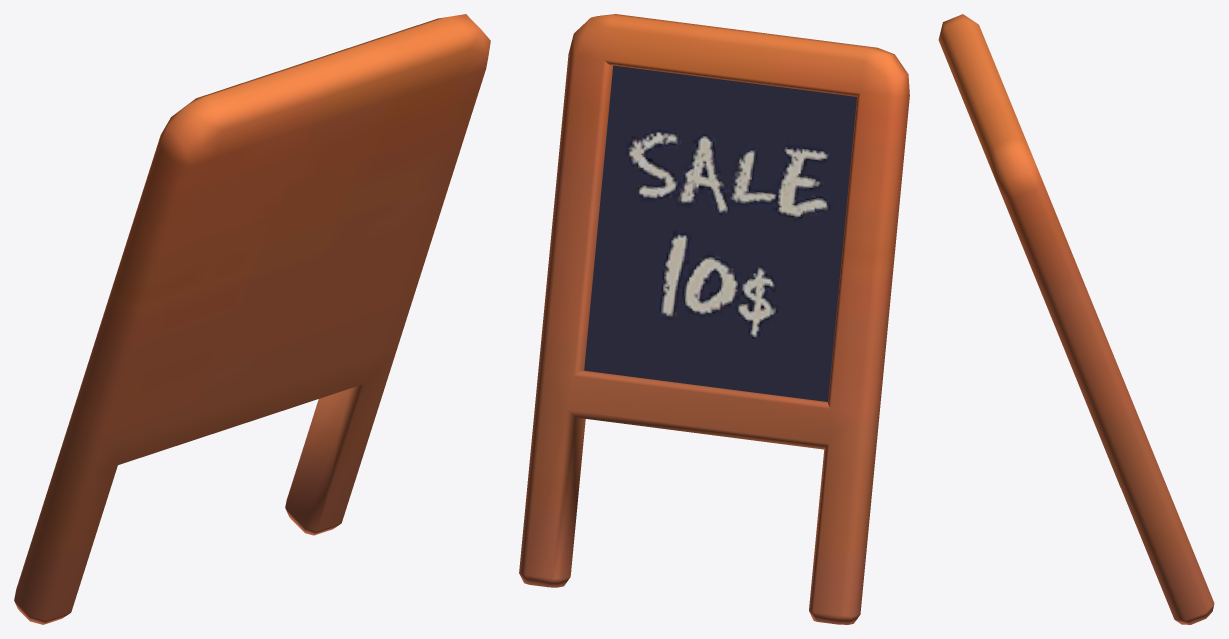
File: ChalkBoard.fbx
3 views of the same model, side by side, from view 1: azimuth 30°, elevation 25°; view 2: azimuth 150°, elevation 25°; view 3: azimuth 270°, elevation 25° (orthographic). The views are drawn at different scales.
Visible parts, largest first — view 1: ChalkBoard; view 2: ChalkBoard; view 3: ChalkBoard.
Part boxes in pixels (<box>): ChalkBoard: <box>14,14,490,624</box>; ChalkBoard: <box>519,14,909,624</box>; ChalkBoard: <box>938,14,1214,624</box>.
Size of the model in its own units: 2.87 by 4.05 by 2.03.
